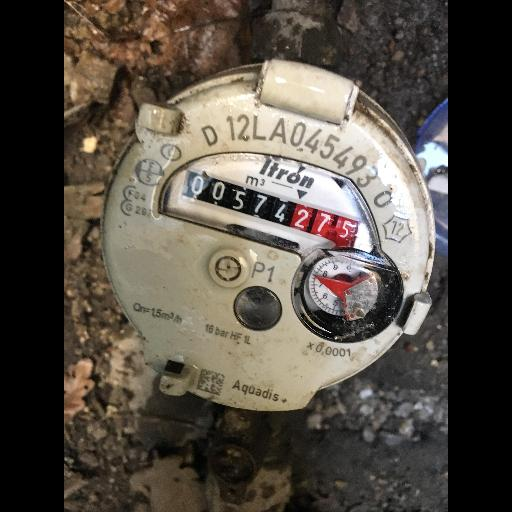0: (184, 171, 210, 201), (206, 177, 231, 207)
2: (290, 203, 315, 233)
4: (269, 197, 294, 226)
5: (329, 216, 359, 253), (225, 184, 253, 214)
7: (249, 190, 274, 220), (310, 209, 335, 239)
border_water_meter_number: (174, 164, 367, 257)
